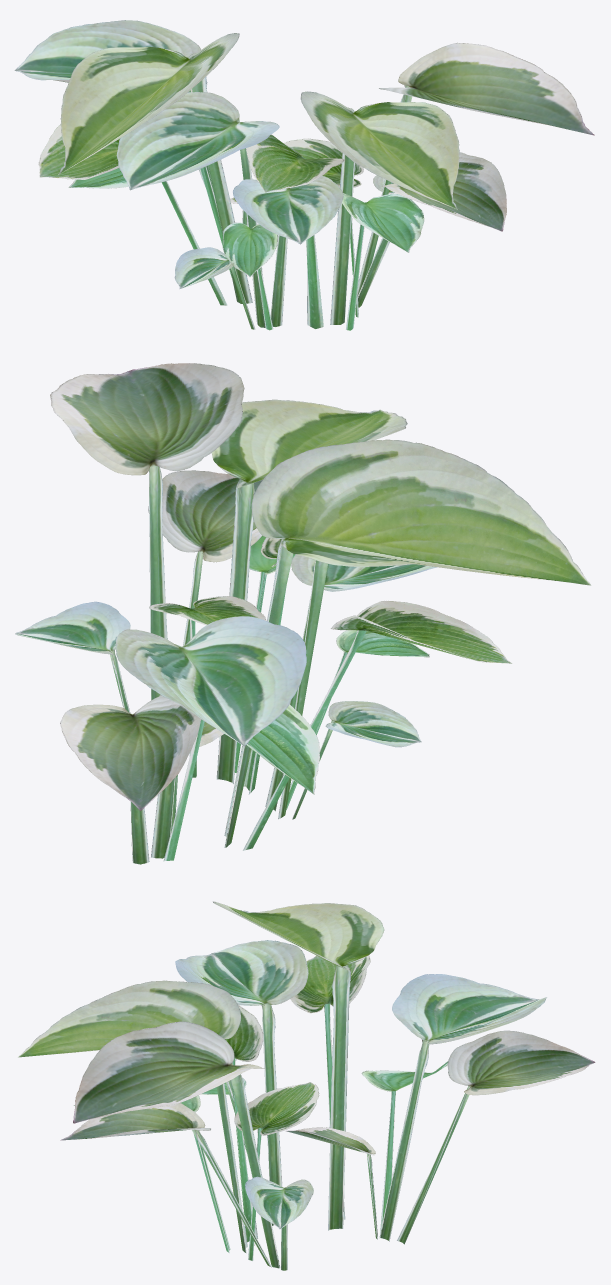
File: plant_small_wg_00_o-corner07.fbx
The picture shows the model from 3 angles, top to bottom: view 1: azimuth 30°, elevation 25°; view 2: azimuth 150°, elevation 25°; view 3: azimuth 270°, elevation 25°; orthographic projection. The views are drawn at different scales.
Visible parts, largest first — view 1: plant_small_wg_00_o-corner07; view 2: plant_small_wg_00_o-corner07; view 3: plant_small_wg_00_o-corner07.
Part boxes in pixels (x1,y1,x2,y2): plant_small_wg_00_o-corner07: (14, 20, 594, 330); plant_small_wg_00_o-corner07: (15, 363, 591, 864); plant_small_wg_00_o-corner07: (18, 901, 595, 1270).
Size of the model in its own units: 70.89 by 45.41 by 81.72.
Materials: 1 (1 with a texture image).
